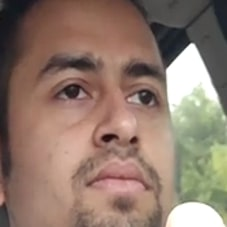awake: (31, 41, 168, 214)
